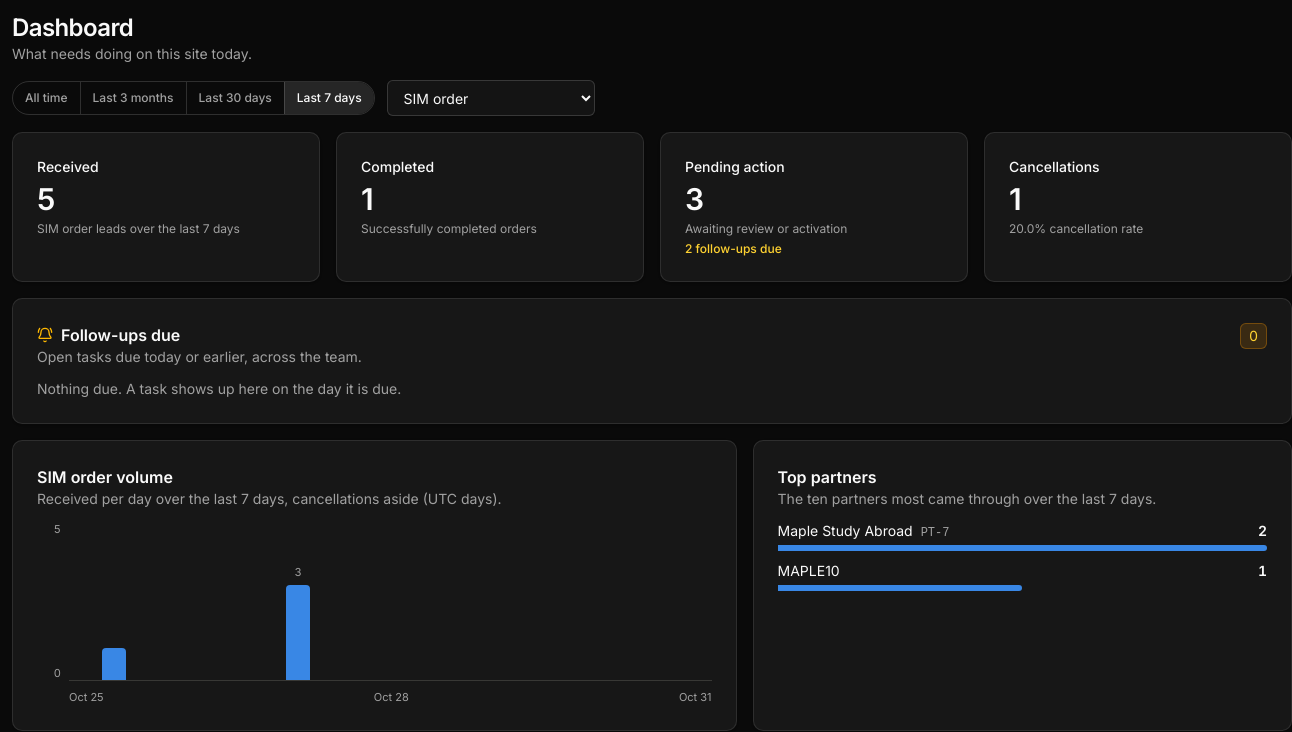
Test case: Dashboard totals › reloads for another window and another type
Expected: the heading "Pending action" is shown, [685,158,785,175]
Click the button "All time" at (46, 98), box [13,82,80,114]
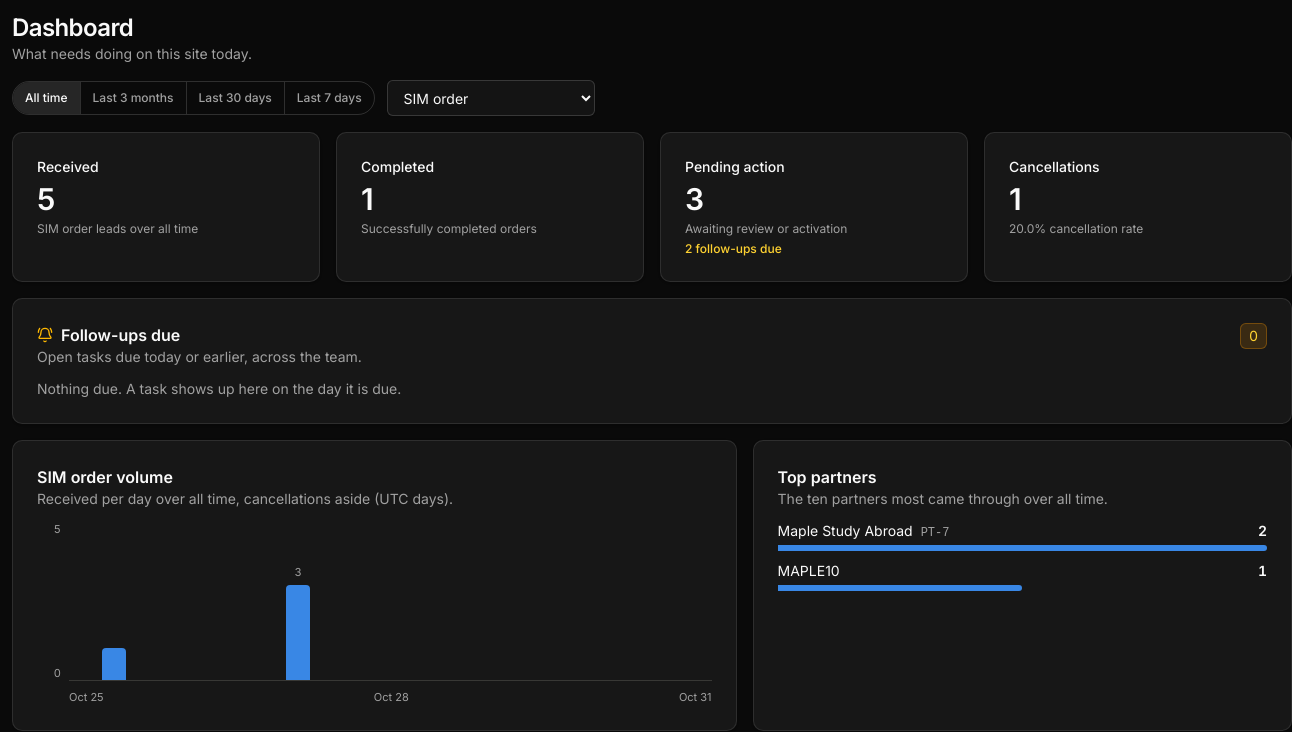
Now the button "All time" is pressed, box [13,82,80,114]
Select "Partner application" in the dropdown named "Lead type" at (491, 98), box [387,80,595,116]
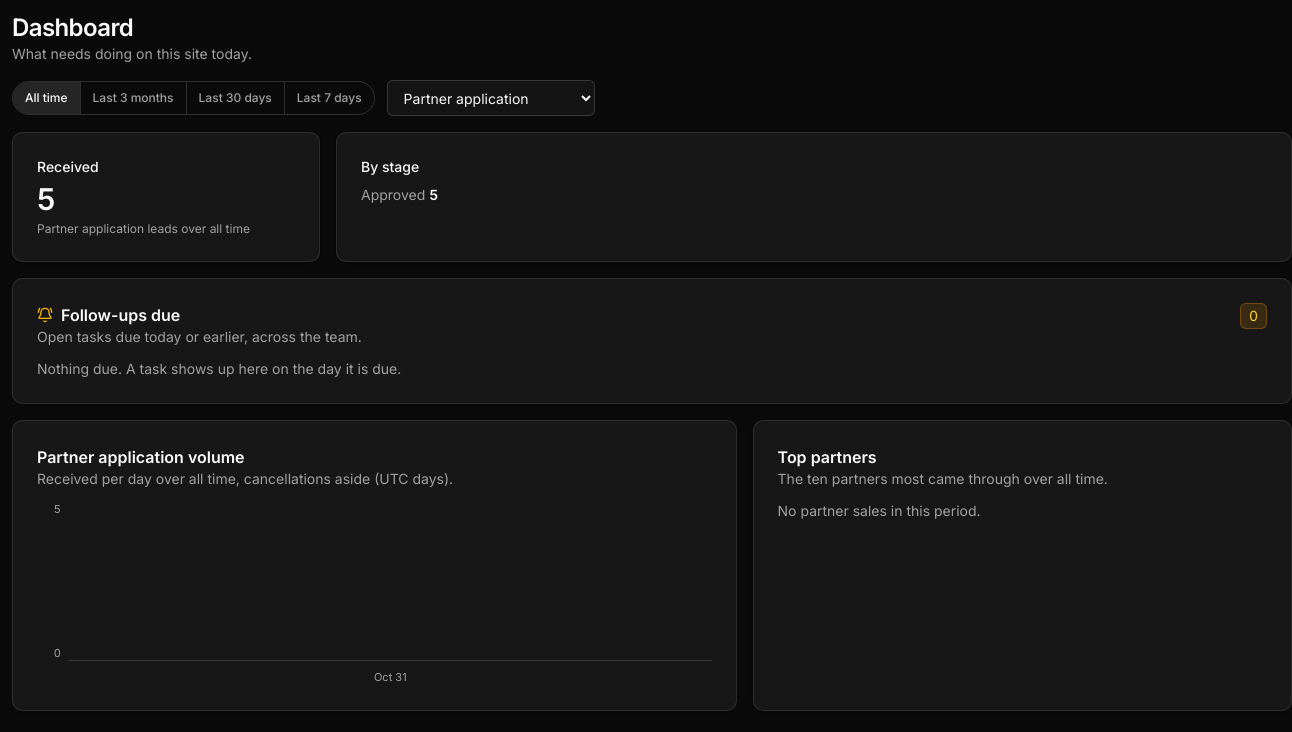
Now the heading "By stage" is shown, box [361,158,419,175]
Now the text "Approved" is shown, box [361,186,425,203]
Now the text "No partner sales in this period." is shown, box [778,502,981,519]
